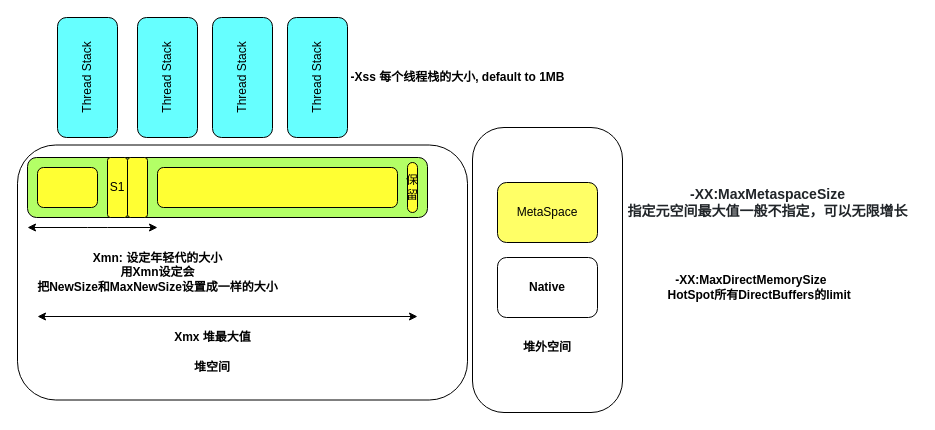
Some shapes in this 935 by 430 pixel diagram are drawn without their labels. Here are the shapes that lost their labels. From the top down, the centre of each, then its label:
At point 67,187: "Eden".
At point 137,187: "S0".
At point 277,187: "Old".
